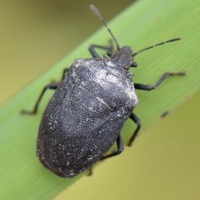insect: (21, 5, 184, 176)
